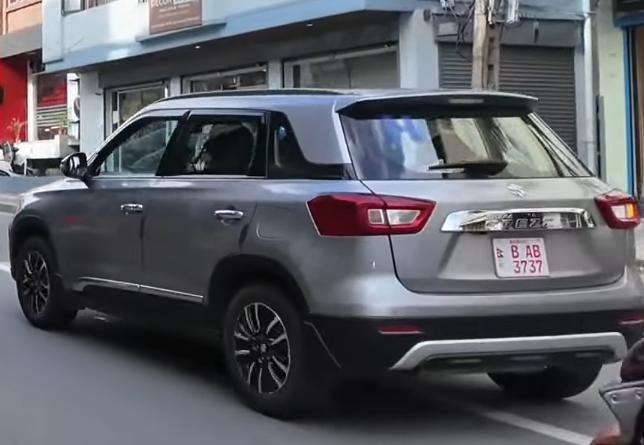SUV: (6, 75, 644, 425)
